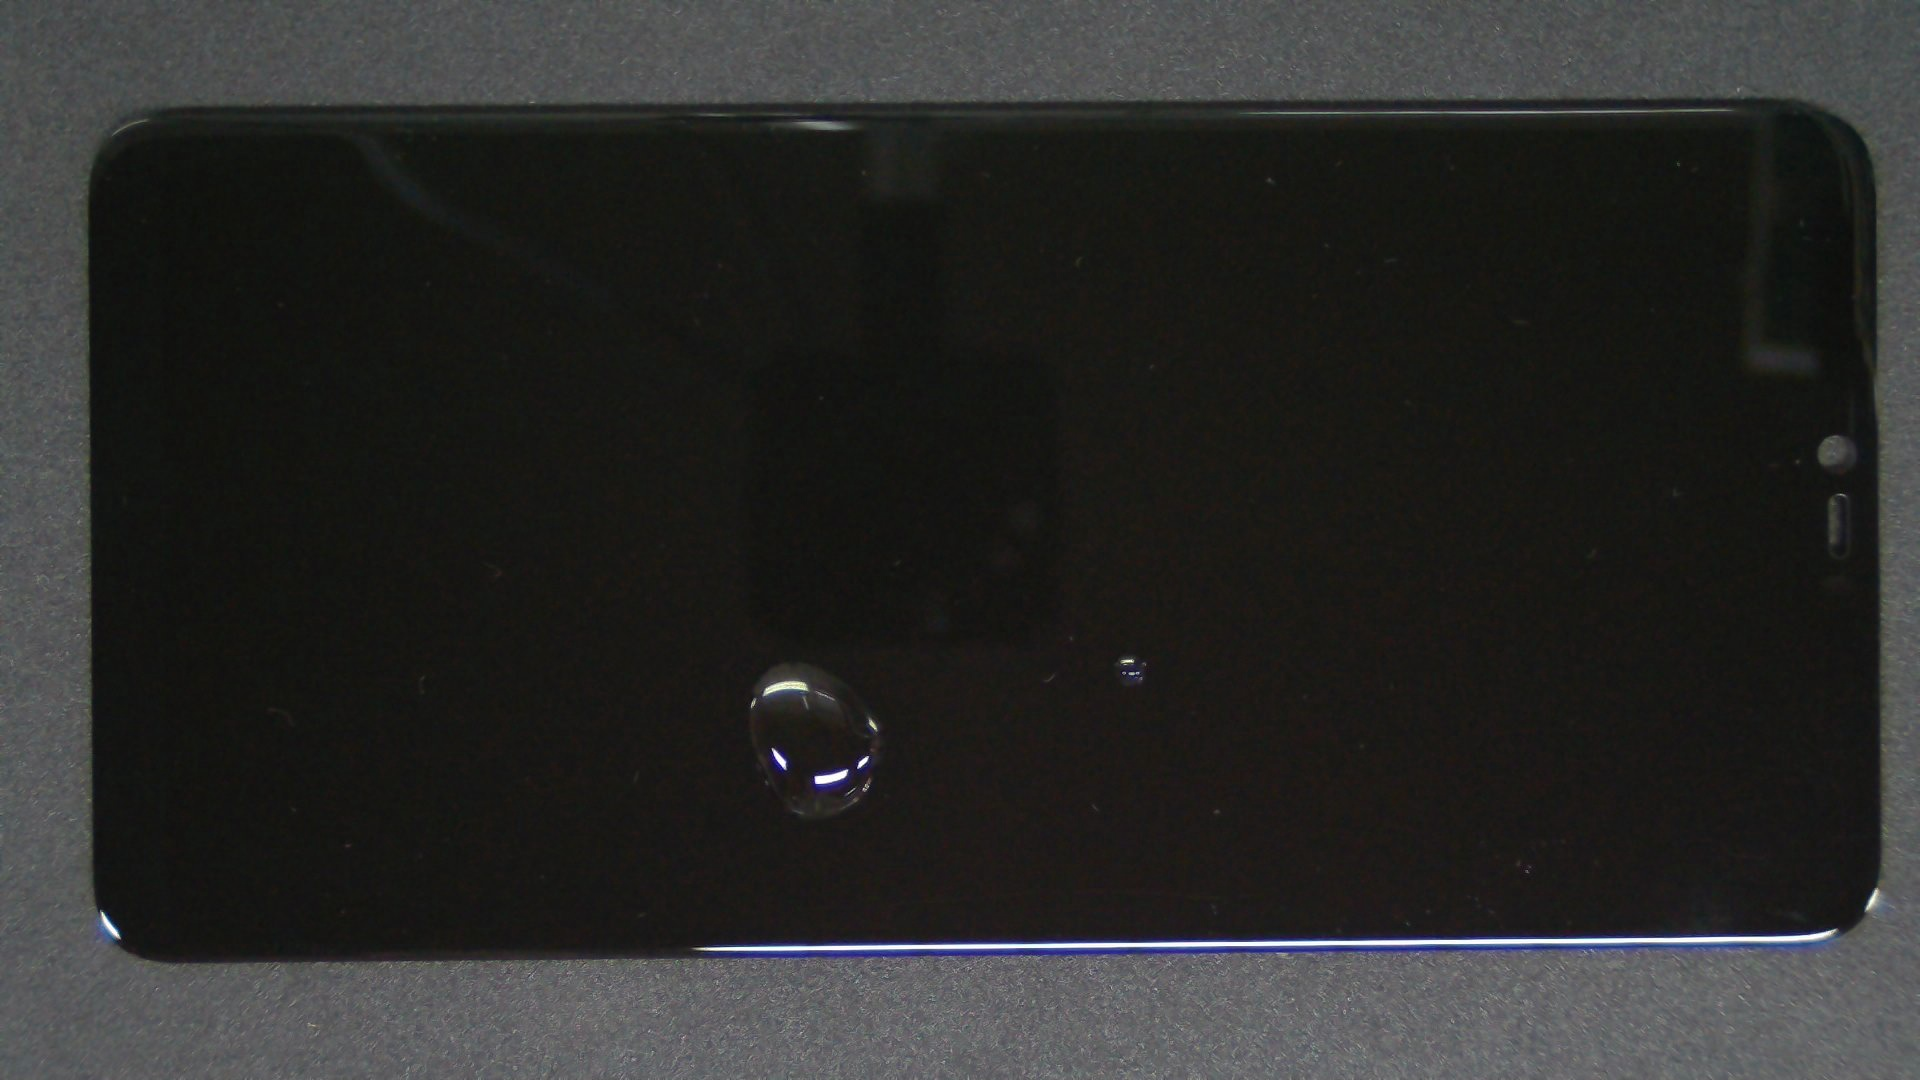oil: (564, 327, 1693, 981), (392, 331, 1174, 996)
